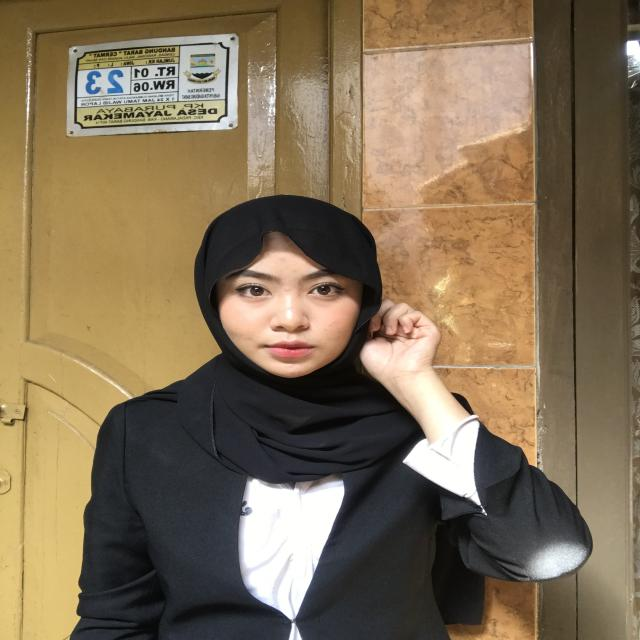ibu: (328, 298, 466, 406)
